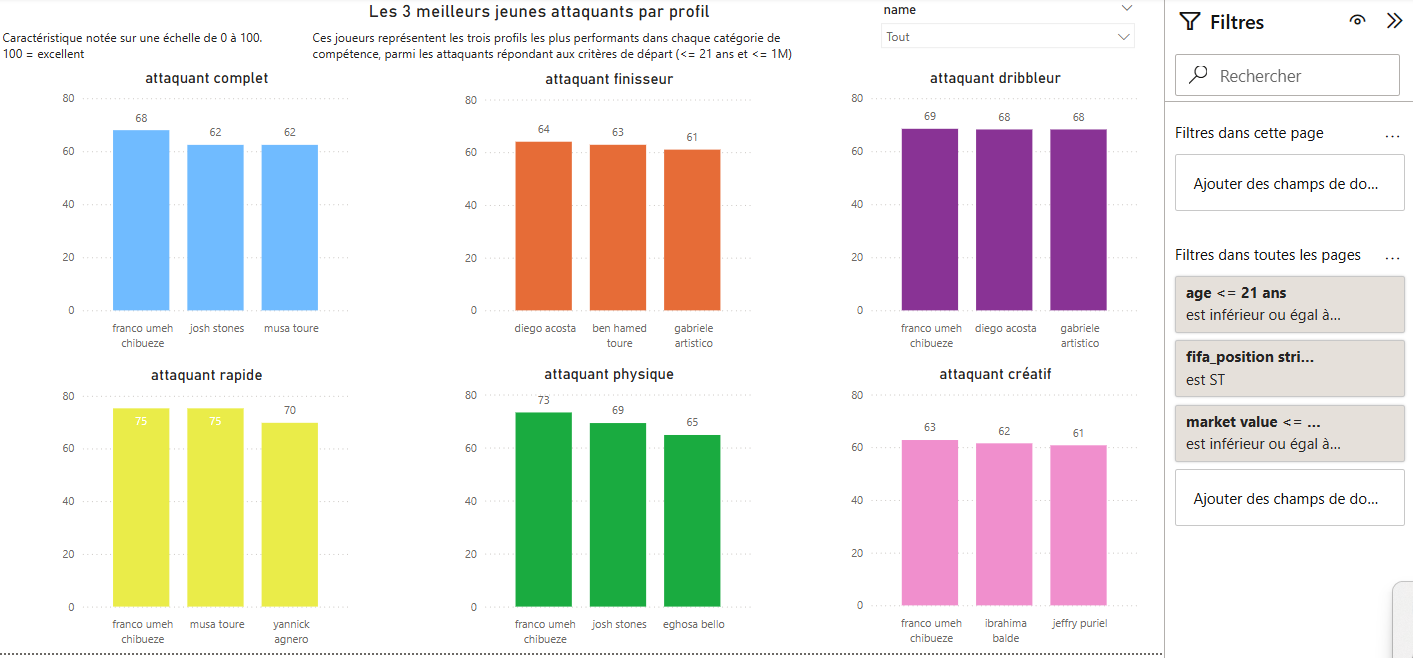

The page's visual inventory and layout, read from the dashboard file:
{"tool":"powerbi","page":{"name":"Page 2","canvas":[1280,720],"ordinal":2},"visuals":[{"type":"columnChart","title":"attaquant créatif","fields":{"Category":["dim_Player.player_name_cleaned"],"Y":["fact_Performance.attaquant créatif"]},"box":[931.7,403.4,326.6,315.6],"z":0},{"type":"columnChart","title":"attaquant dribbleur","fields":{"Y":["fact_Performance.attaquant dribbleur"],"Category":["dim_Player.player_name_cleaned"]},"box":[931.7,78.2,326.6,317],"z":1000},{"type":"columnChart","title":"attaquant finisseur","fields":{"Y":["fact_Performance.attaquant finisseur"],"Category":["dim_Player.player_name_cleaned"]},"box":[507.7,79.6,326.6,315.6],"z":2000},{"type":"columnChart","title":"attaquant physique","fields":{"Y":["fact_Performance.attaquant physique"],"Category":["dim_Player.player_name_cleaned"]},"box":[507.7,403.4,326.6,317],"z":3000},{"type":"columnChart","title":"attaquant rapide","fields":{"Y":["fact_Performance.attaquant rapide"],"Category":["dim_Player.player_name_cleaned"]},"box":[65.9,404.8,326.6,315.6],"z":4000},{"type":"columnChart","title":"attaquant complet","fields":{"Y":["fact_Performance.attaquant complet"],"Category":["dim_Player.player_name_cleaned"]},"box":[65.9,78.2,326.6,317],"z":5000},{"type":"textbox","box":[402.1,0,492.6,34.3],"z":6000},{"type":"slicer","fields":{"Values":["dim_Player.player_name_cleaned"]},"box":[959.2,0,299.1,61.7],"z":7000},{"type":"textbox","box":[0,30.2,299.1,49.4],"z":7001},{"type":"textbox","box":[340.3,30.2,599.7,49.4],"z":7002}]}

Visuals, with their boxes on the page's 1280x720 design canvas (x1, y1, x2, y2). These are canvas units, not pixel positions in the 1413x658 screenshot, which may show the page scaled, cropped or inside an application window:
"attaquant créatif" columnChart: (932,403,1258,719)
"attaquant dribbleur" columnChart: (932,78,1258,395)
"attaquant finisseur" columnChart: (508,80,834,395)
"attaquant physique" columnChart: (508,403,834,720)
"attaquant rapide" columnChart: (66,405,392,720)
"attaquant complet" columnChart: (66,78,392,395)
textbox: (402,0,895,34)
slicer - dim_Player.player_name_cleaned: (959,0,1258,62)
textbox: (0,30,299,80)
textbox: (340,30,940,80)
